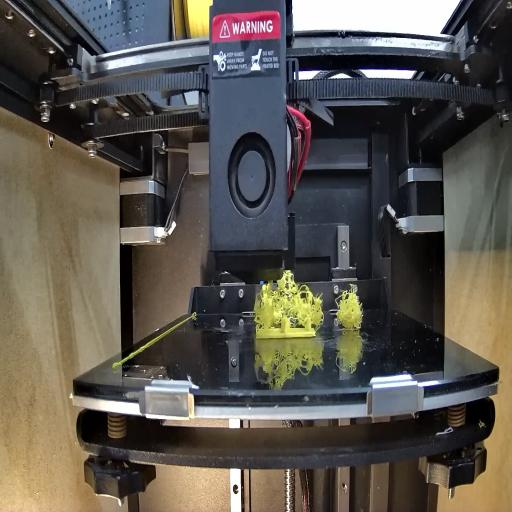spaghetti: (257, 274, 324, 325), (338, 287, 361, 327)
